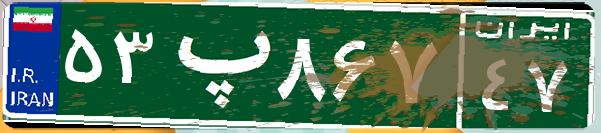3: (110, 28, 158, 105)
4: (475, 38, 525, 113)
5: (57, 26, 110, 107)
6: (330, 28, 385, 110)
7: (385, 28, 445, 110), (525, 38, 570, 115)
8: (273, 28, 330, 110)
پ: (158, 15, 273, 115)
